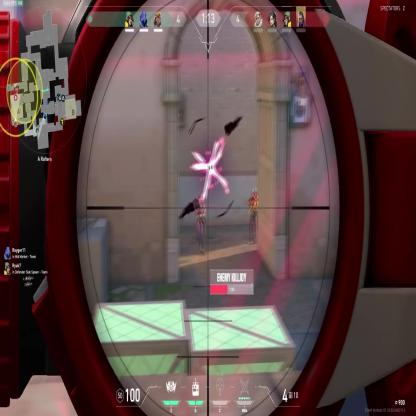enemy: (248, 188, 259, 246), (195, 194, 205, 254)
enemy_head: (198, 196, 204, 205), (254, 188, 258, 197)
